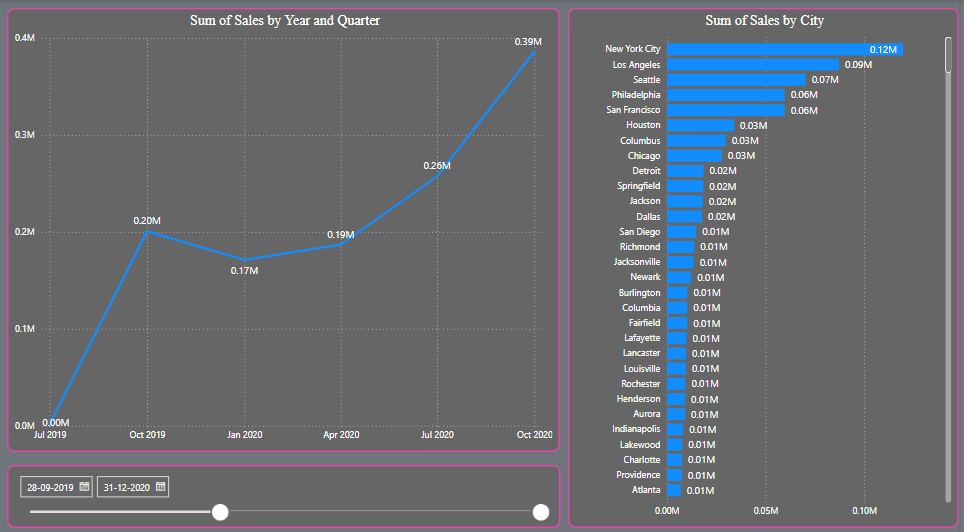

The page's visual inventory and layout, read from the dashboard file:
{"tool":"powerbi","page":{"name":"Page 2","canvas":[1280,720],"ordinal":1},"visuals":[{"type":"lineChart","fields":{"Y":["Sum(Sales.Sales)"],"Category":["Sales.Order Date.Variation.Date Hierarchy.Year","Sales.Order Date.Variation.Date Hierarchy.Quarter","Sales.Order Date.Variation.Date Hierarchy.Month","Sales.Order Date.Variation.Date Hierarchy.Day"]},"box":[10.3,0,738.3,603.3],"z":0},{"type":"barChart","fields":{"Y":["Sum(Sales.Sales)"],"Category":["Sales.City"]},"box":[759,0,521,720],"z":1000},{"type":"slicer","fields":{"Values":["Sales.Order Date"]},"box":[10.3,620.3,738.3,83.7],"z":2000}]}

Visuals, with their boxes in screenshot pixels (x1, y1, x2, y2), scaled from the page's 1280x720 canvas onto the 964x532 screenshot:
lineChart - Sum(Sales.Sales) x Sales.Order Date.Variation.Date Hierarchy.Year: 8,0,564,446
barChart - Sum(Sales.Sales) x Sales.City: 572,0,963,531
slicer - Sales.Order Date: 8,458,564,520
